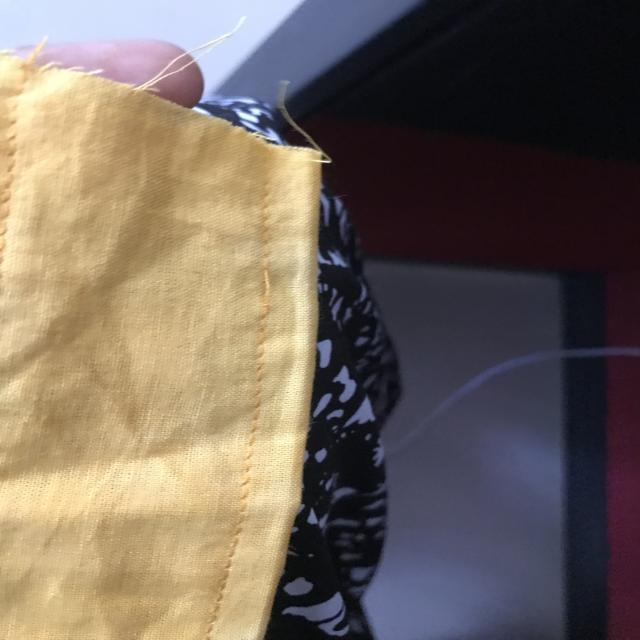skip: (247, 251, 292, 319)
